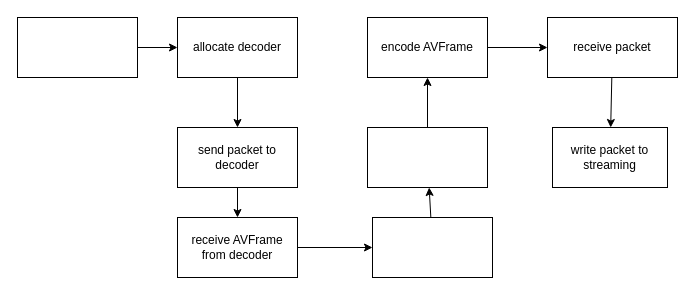
Image size: 695x295. Some labels were removed from this diagram. The shapes that lost their labels are listed below. From the top down, each one's centre as x and y in pixels, then its label:
At (77,47): "read streaming".
At (427,157): "send AVFrame to encoder".
At (432,247): "allocate encoder".
